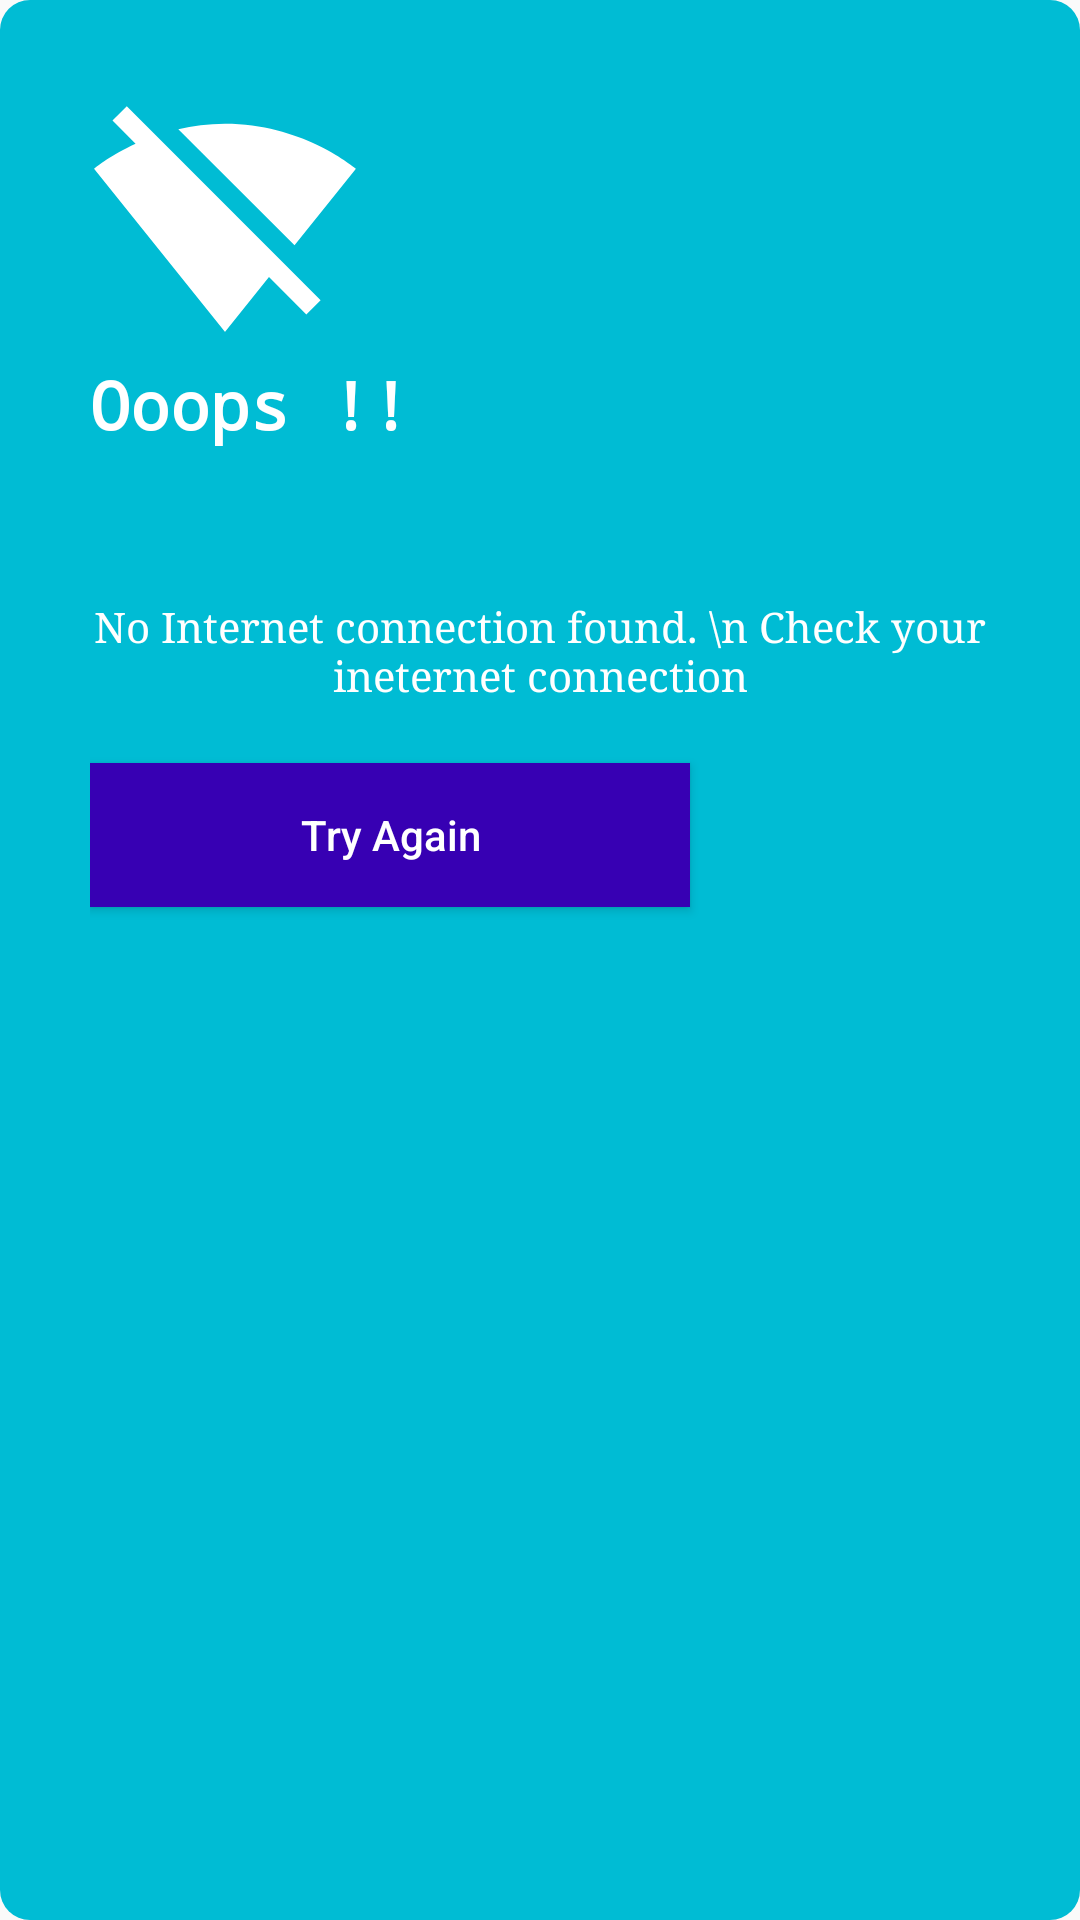

Locate icon controls on the screen. Image size 1080×1920, boxes as box(x1, y1, x2, y2).
no wifi: box(94, 106, 356, 332)
